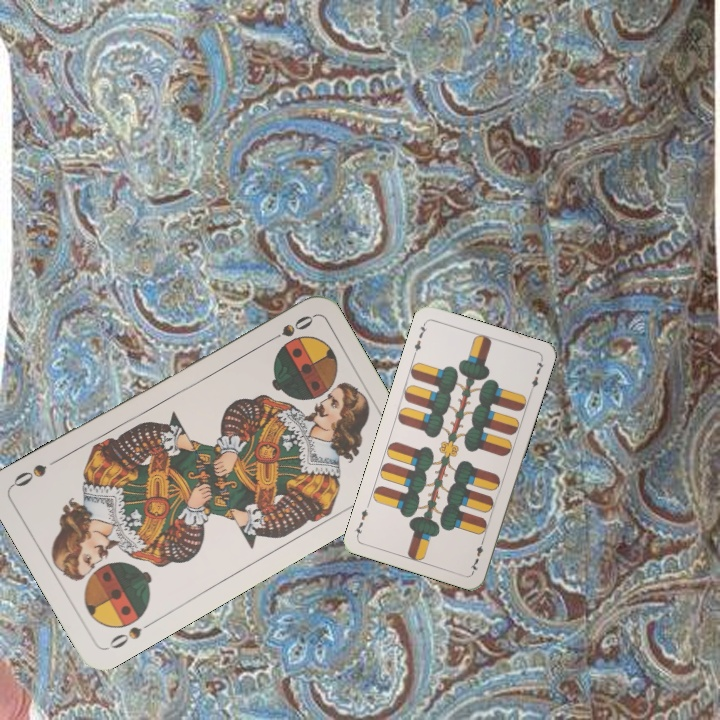E7: (466, 535, 487, 575), (409, 319, 429, 358)
SO: (261, 311, 316, 347), (103, 617, 157, 653)
